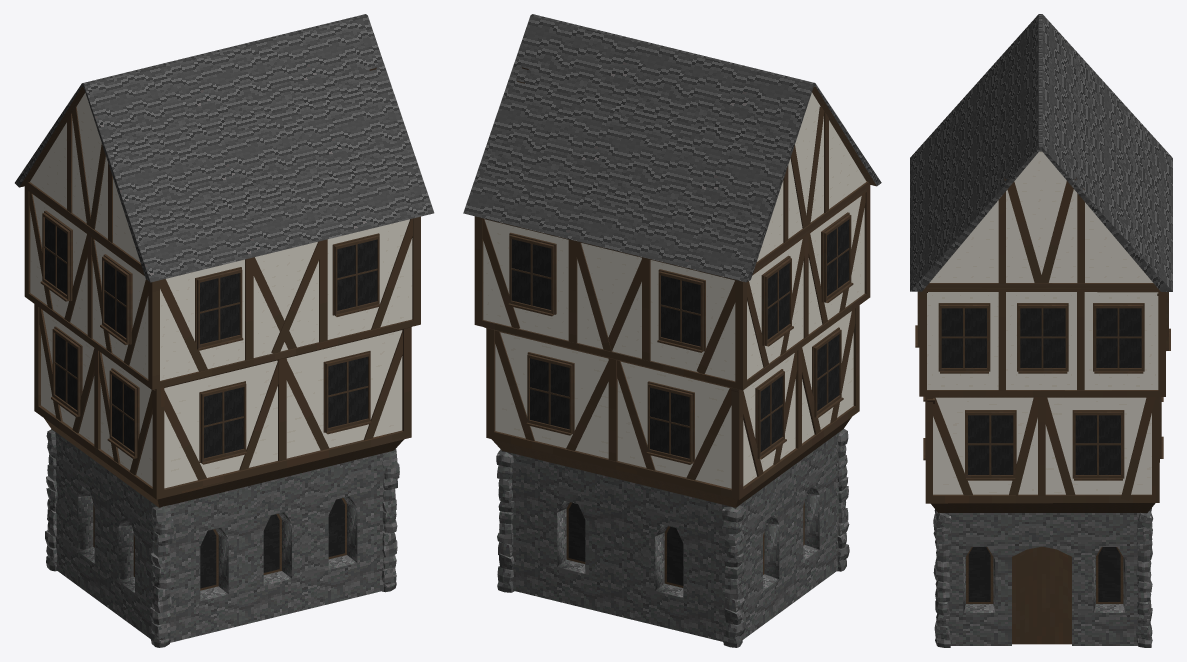
File: MedievalHouse02.fbx
3 views of the same model, side by side, from view 1: azimuth 30°, elevation 25°; view 2: azimuth 150°, elevation 25°; view 3: azimuth 270°, elevation 25° (orthographic). The views are drawn at different scales.
Parts seen in each view (by area): view 1: Cube.001; view 2: Cube.001; view 3: Cube.001.
Boxes of the visible parts, bbox=[...] form: Cube.001: bbox=[15, 14, 434, 647]; Cube.001: bbox=[463, 14, 881, 647]; Cube.001: bbox=[910, 14, 1172, 647].
Bounding box in the file's own units: 650 × 1161 × 540.
